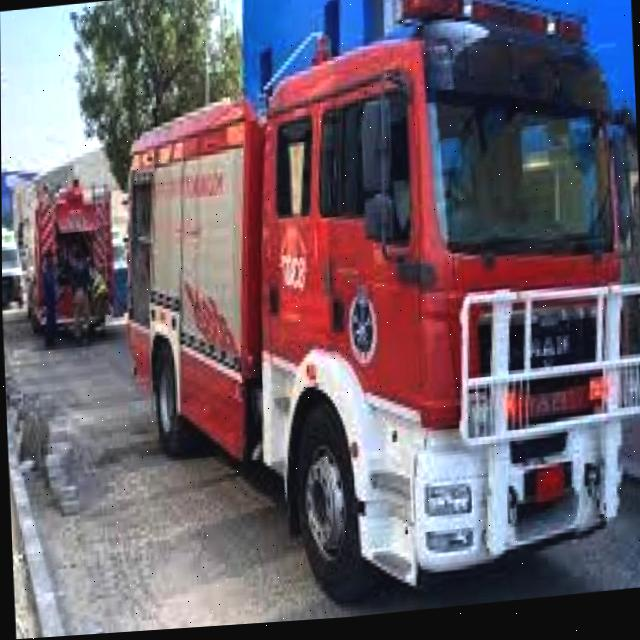emergency: (101, 0, 638, 635)
